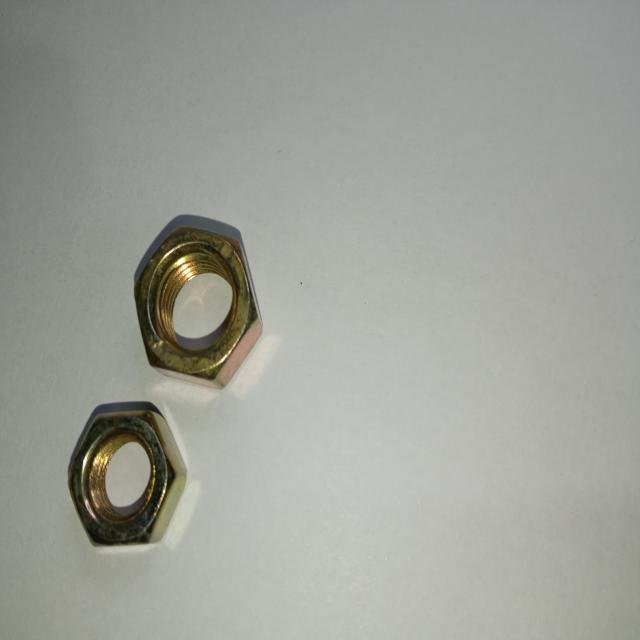m10: (128, 230, 258, 381)
m8: (70, 409, 170, 543)
